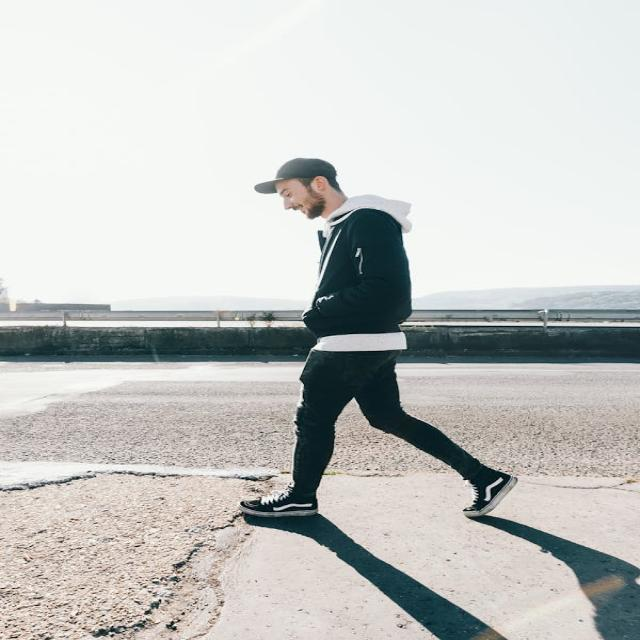Real human 2: (228, 138, 532, 546)
